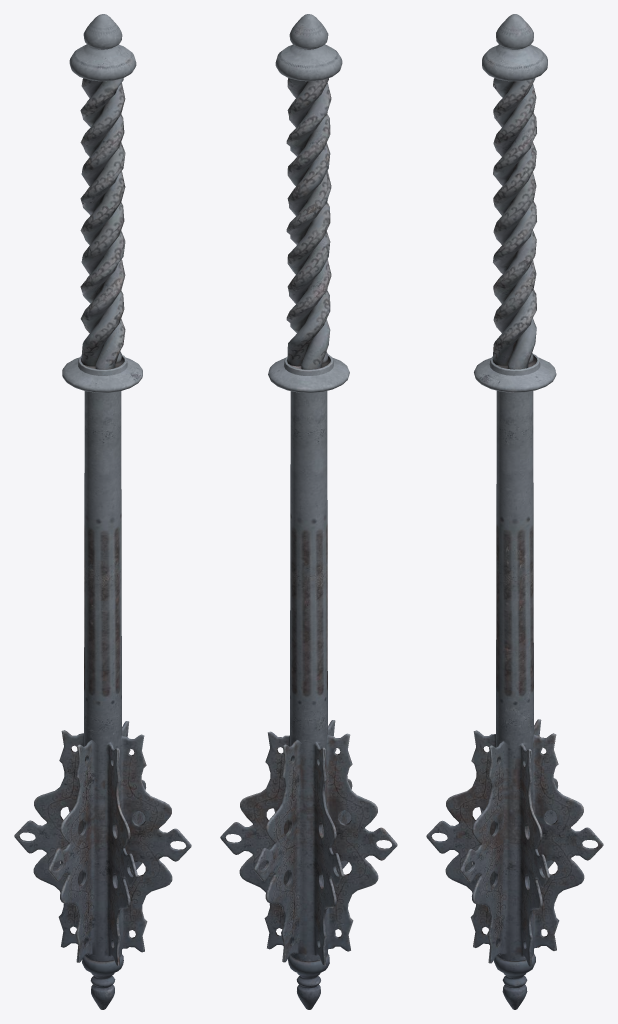
Rendered from mace-ornate-1.glb.
The picture shows the model from 3 angles, left to right: view 1: azimuth 30°, elevation 25°; view 2: azimuth 150°, elevation 25°; view 3: azimuth 270°, elevation 25°; orthographic projection.
Visible parts, largest first — view 1: ornate_medieval_mace; view 2: ornate_medieval_mace; view 3: ornate_medieval_mace.
Boxes of the visible parts, box(x1,y1,x2,y2) form: ornate_medieval_mace: box(14, 14, 191, 1009); ornate_medieval_mace: box(220, 14, 397, 1009); ornate_medieval_mace: box(426, 14, 603, 1009).
Size of the model in its own units: 0.0949 by 0.63 by 0.1017.
Materials: 1 (1 with a texture image).
